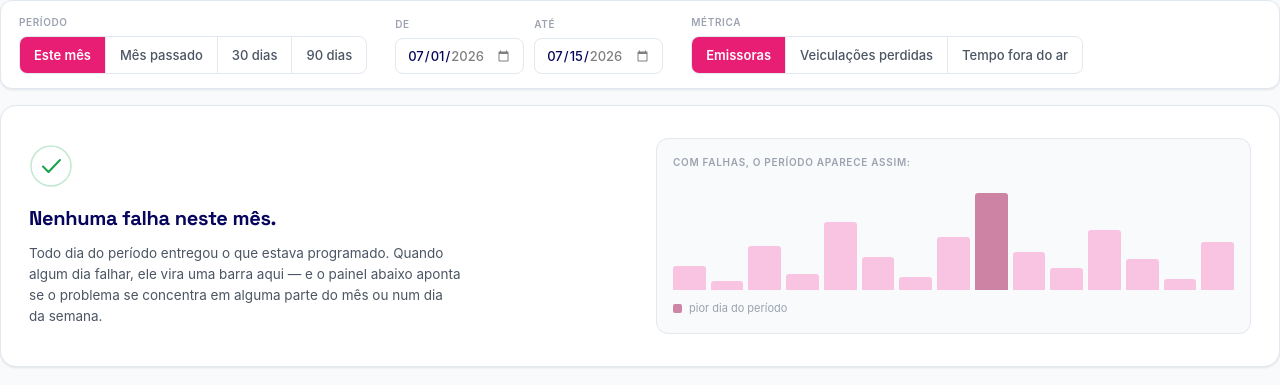
Test case: FailuresDailyView — KPIs e métricas › sem nenhuma falha no período mostra o estado vazio com a frase do período
The image size is (1280, 385).
expect the heading "Nenhuma falha neste mês." is shown: met, box 29,205 -> 276,231
Note: trocar o período muda a frase
Click the button "90 dias" at (329, 55), box 292,37 -> 366,73
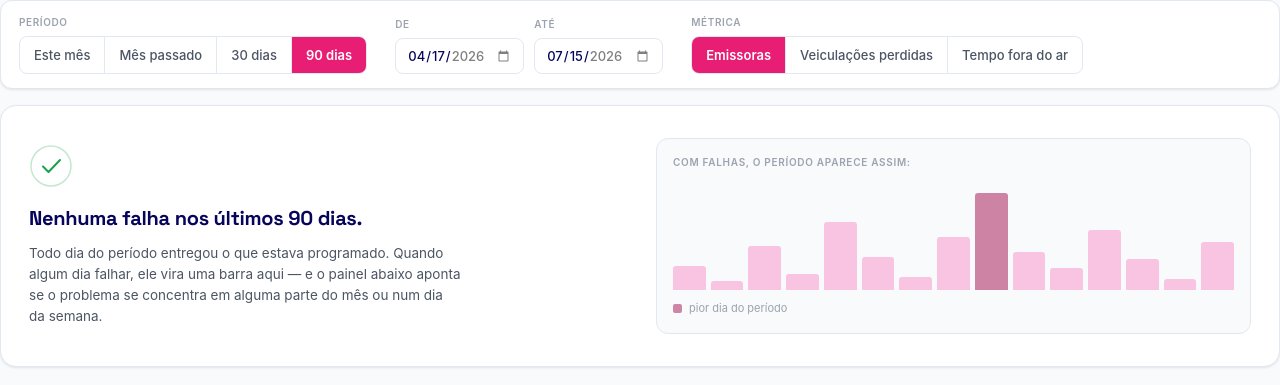
expect the heading "Nenhuma falha nos últimos 90 dias." is shown: met, box 29,205 -> 362,231
